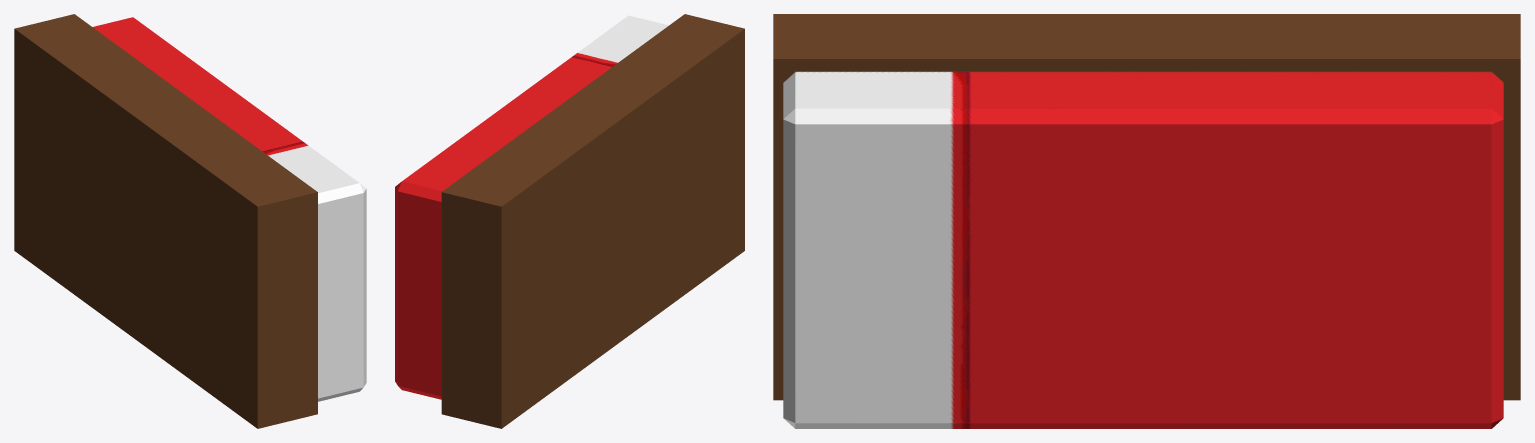
Rendered from SingleBed.fbx.
The picture shows the model from 3 angles, left to right: view 1: azimuth 30°, elevation 25°; view 2: azimuth 150°, elevation 25°; view 3: azimuth 270°, elevation 25°; orthographic projection. The views are drawn at different scales.
Visible parts, largest first — view 1: node_id6; view 2: node_id6; view 3: node_id6.
Part boxes in pixels (bbox=[...]): node_id6: bbox=[14, 14, 366, 428]; node_id6: bbox=[395, 14, 744, 428]; node_id6: bbox=[773, 14, 1520, 428].
Bounding box in the file's own units: 0.1409 × 0.2579 × 0.512.
2 materials, 2 textured.
